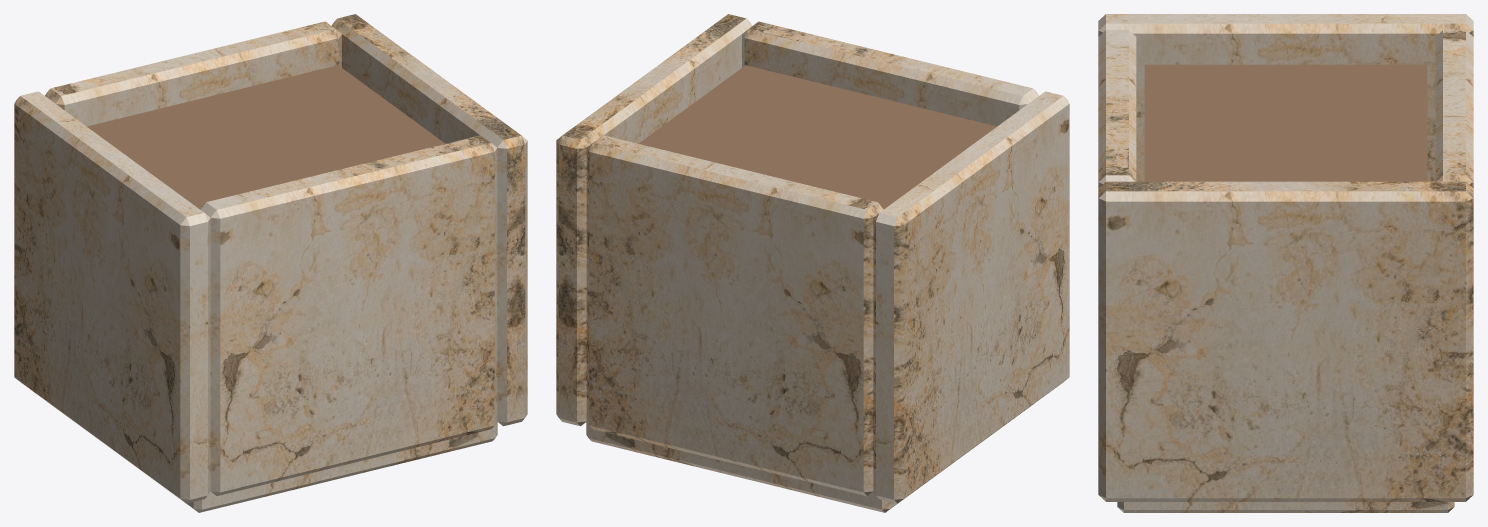
File: concrete_planter.glb
3 views of the same model, side by side, from view 1: azimuth 30°, elevation 25°; view 2: azimuth 150°, elevation 25°; view 3: azimuth 270°, elevation 25° (orthographic). The views are drawn at different scales.
Parts seen in each view (by area): view 1: concrete_planter__VVK_concrete_CC0, concrete_planter__VVK_masonry; view 2: concrete_planter__VVK_concrete_CC0, concrete_planter__VVK_masonry; view 3: concrete_planter__VVK_concrete_CC0, concrete_planter__VVK_masonry.
Part boxes in pixels (x1=…): concrete_planter__VVK_concrete_CC0: x1=14, y1=14, x2=527, y2=512; concrete_planter__VVK_masonry: x1=87, y1=65, x2=445, y2=209; concrete_planter__VVK_concrete_CC0: x1=556, y1=14, x2=1069, y2=512; concrete_planter__VVK_masonry: x1=638, y1=65, x2=996, y2=209; concrete_planter__VVK_concrete_CC0: x1=1098, y1=14, x2=1473, y2=512; concrete_planter__VVK_masonry: x1=1144, y1=64, x2=1427, y2=181.
Bounding box in the file's own units: 0.8 × 0.675 × 0.69.
Materials: 2 (1 with a texture image).
